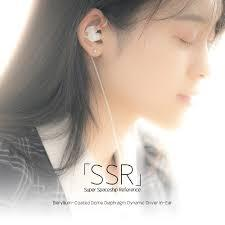earphone: (80, 24, 102, 44)
